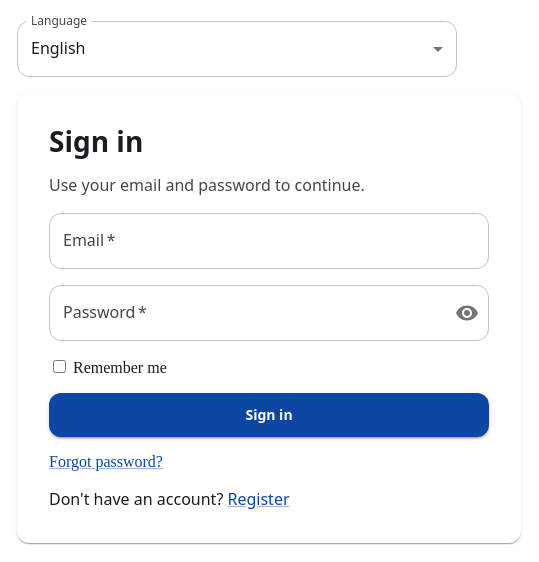
Test case: authentication forms › switches the login screen to Marathi
Step 1. Select "Marathi" in the dropdown labelled "Language" → (237,49), box 17,21 -> 457,77
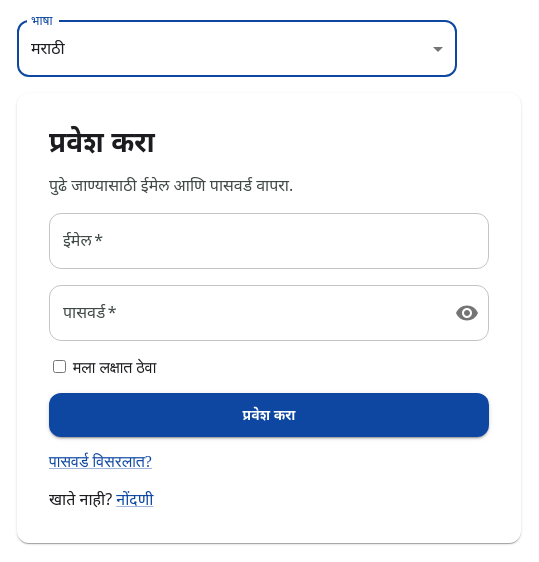
Now the button "प्रवेश करा" is shown, box 49,393 -> 489,437
